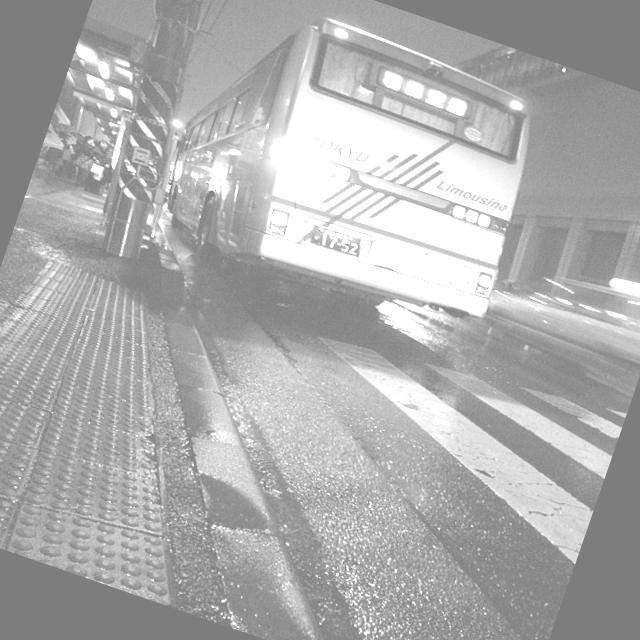Vehicle: (140, 0, 548, 335), (470, 245, 640, 399)
